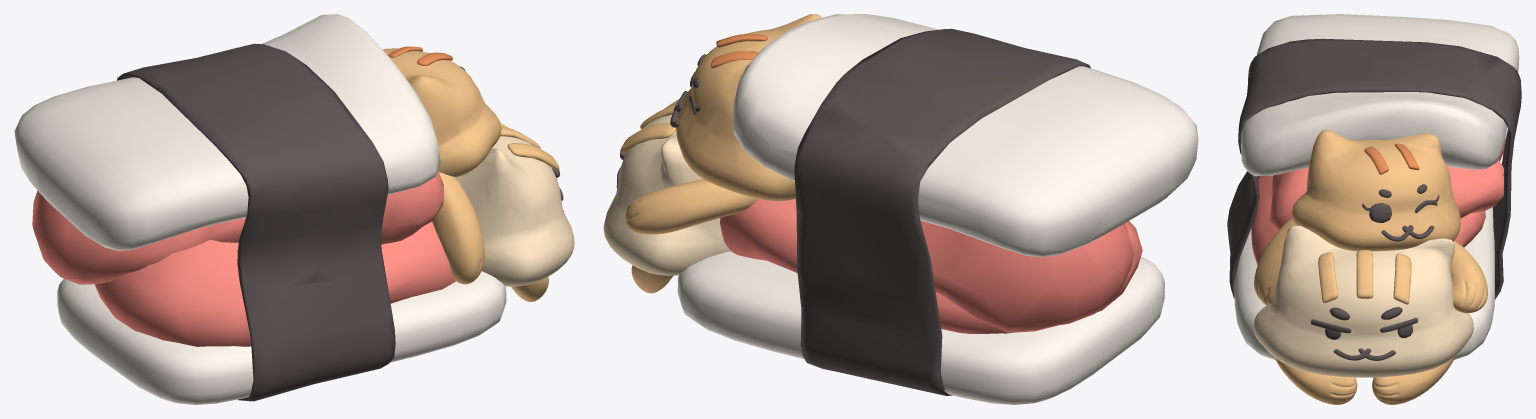
Rendered from SuperCatSushi_zoe.glb.
3 views of the same model, side by side, from view 1: azimuth 30°, elevation 25°; view 2: azimuth 150°, elevation 25°; view 3: azimuth 270°, elevation 25° (orthographic). The views are drawn at different scales.
Parts seen in each view (by area): view 1: Cube.009, Cube.008, Cube.007, Sphere.004, Sphere, Sphere.005, Sphere.011, Cube.005, Cube.001, Cube.010, Cube.015; view 2: Cube.009, Cube.008, Cube.007, Sphere.005, Sphere.011, Sphere, Sphere.004, Cube.006, Cube.015, Cube.001, Cube.010; view 3: Cube.008, Sphere, Cube.009, Sphere.011, Cube.007, Sphere.005, Cube.010, Sphere.004, Cube.006, Cube.001, Cube.005, Cube (+6 smaller).
Boxes of the visible parts, <box> form: Cube.009: <box>117,43,395,401</box>; Cube.008: <box>14,14,440,250</box>; Cube.007: <box>57,271,506,404</box>; Sphere.004: <box>94,222,455,346</box>; Sphere: <box>456,136,574,286</box>; Sphere.005: <box>32,171,443,284</box>; Sphere.011: <box>382,48,501,177</box>; Cube.005: <box>432,172,484,284</box>; Cube.001: <box>500,123,559,170</box>; Cube.010: <box>511,277,548,301</box>; Cube.015: <box>388,46,452,65</box>; Cube.009: <box>794,28,1090,395</box>; Cube.008: <box>732,14,1198,257</box>; Cube.007: <box>677,251,1164,404</box>; Sphere.005: <box>920,220,1133,332</box>; Sphere.011: <box>676,14,821,201</box>; Sphere: <box>603,114,730,275</box>; Sphere.004: <box>720,199,1142,333</box>; Cube.006: <box>625,179,758,234</box>; Cube.015: <box>711,34,767,68</box>; Cube.001: <box>620,99,679,154</box>; Cube.010: <box>631,265,673,293</box>; Cube.008: <box>1241,14,1519,176</box>; Sphere: <box>1253,225,1473,377</box>; Cube.009: <box>1227,38,1521,299</box>; Sphere.011: <box>1291,129,1460,251</box>; Cube.007: <box>1234,207,1494,359</box>; Sphere.005: <box>1269,138,1505,231</box>; Cube.010: <box>1273,354,1456,404</box>; Sphere.004: <box>1251,175,1485,265</box>; Cube.006: <box>1450,240,1487,313</box>; Cube.001: <box>1318,252,1411,304</box>; Cube.005: <box>1254,218,1295,305</box>; Cube: <box>1356,250,1373,298</box>.
Bounding box in the file's own units: 0.1562 × 0.0827 × 0.0905.
